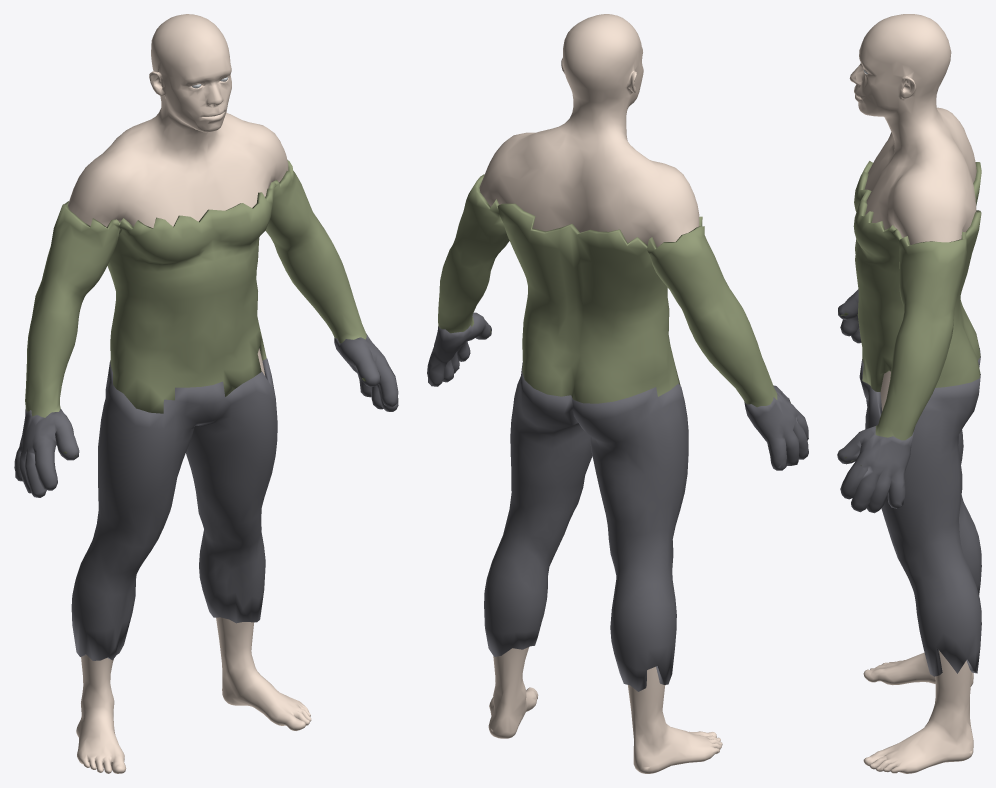
Rendered from variant_male_fair.glb.
3 views of the same model, side by side, from view 1: azimuth 30°, elevation 25°; view 2: azimuth 150°, elevation 25°; view 3: azimuth 270°, elevation 25° (orthographic).
Parts seen in each view (by area): view 1: PeriHuman; view 2: PeriHuman; view 3: PeriHuman.
Boxes of the visible parts, <box> form: PeriHuman: <box>14,14,398,773</box>; PeriHuman: <box>427,14,808,773</box>; PeriHuman: <box>837,14,981,773</box>.
Size of the model in its own units: 0.9412 by 1.76 by 0.3264.
